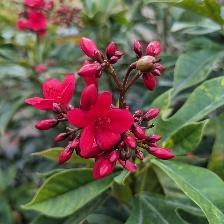jatropha: (68, 91, 136, 158)
